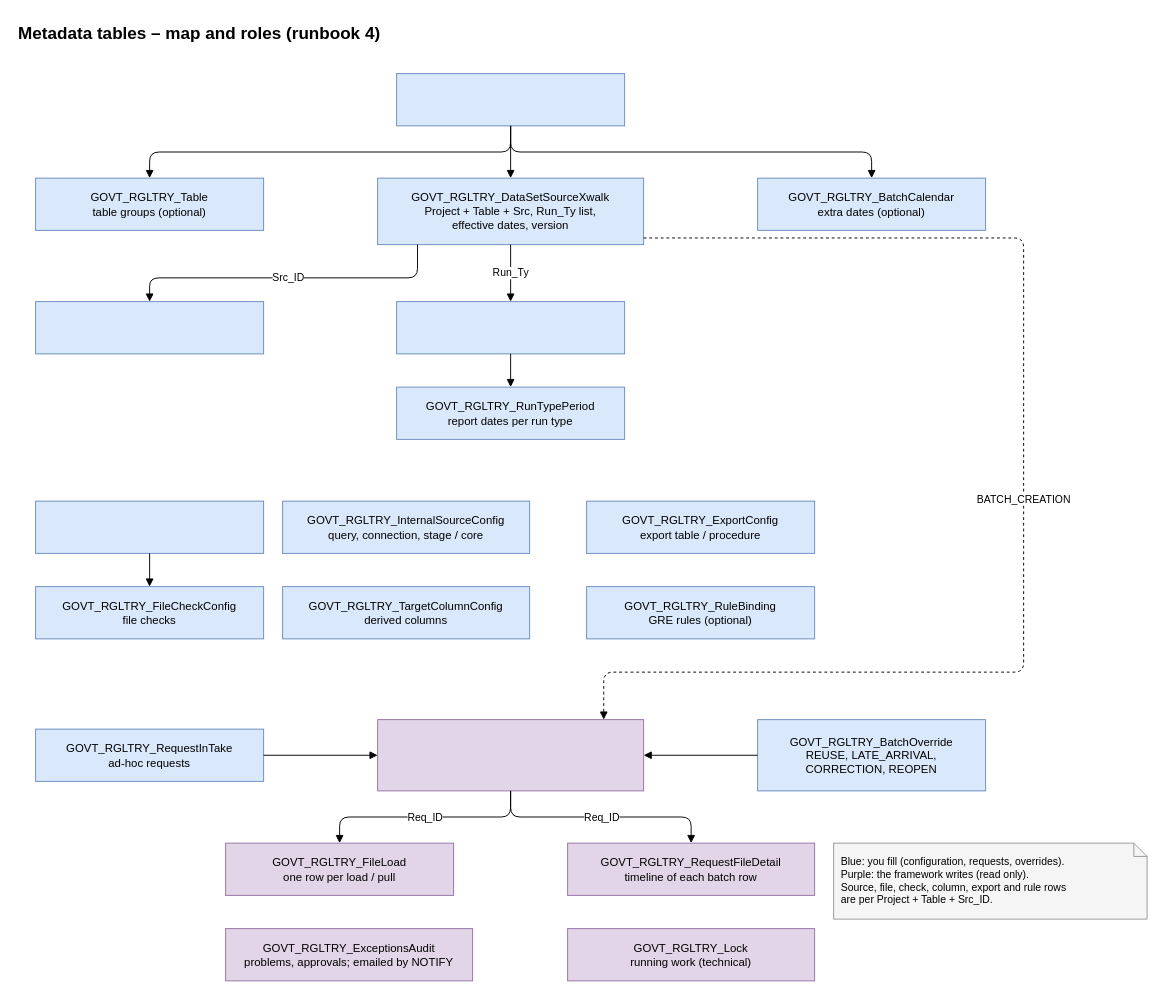
The diagram is 1164 pixels wide and 998 high, and some of its shapes have lost their labels. The centre of each missing label's shape, as x and y in pixels:
"GOVT_RGLTRY_Project Project_Cd" belongs at point 510,99.
"GOVT_RGLTRY_RequestControl one row per batch + source Req_ID, Btch_ID, status" belongs at point 510,755.
"GOVT_RGLTRY_RunType schedule, SLA, category" belongs at point 510,327.
"GOVT_RGLTRY_SourceFileConfig file name, folder, stage / core" belongs at point 149,526.
"GOVT_RGLTRY_SourceSystem Src_ID, name, type" belongs at point 149,327.
